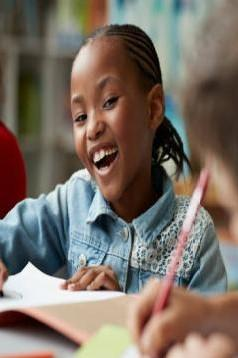cheating: (52, 10, 172, 232)
